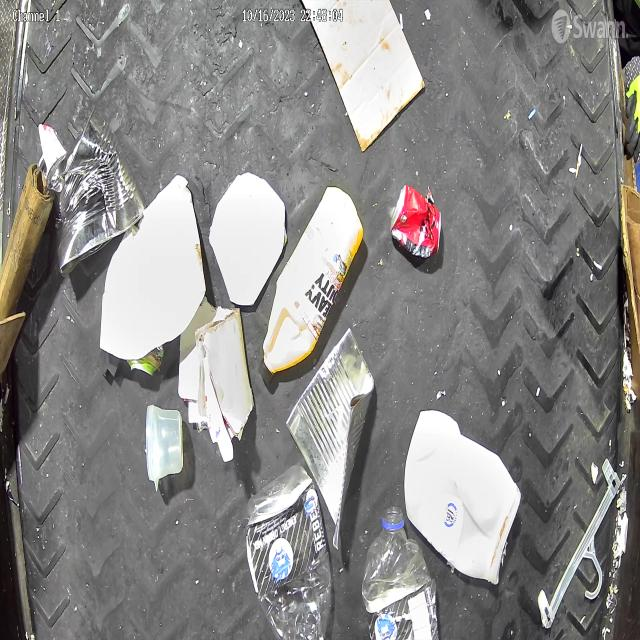can: (46, 108, 144, 277), (391, 184, 442, 259), (128, 345, 164, 375)
milk_jug: (404, 412, 522, 585)
non_white_jug: (256, 182, 361, 381)
plastic_bottle: (246, 462, 332, 640), (362, 506, 438, 640)
